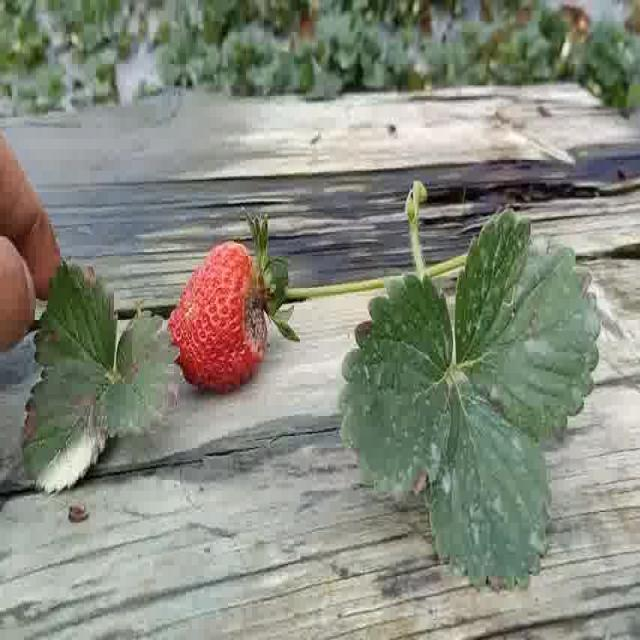Mancha negra Antracnosis: (164, 242, 271, 382)
